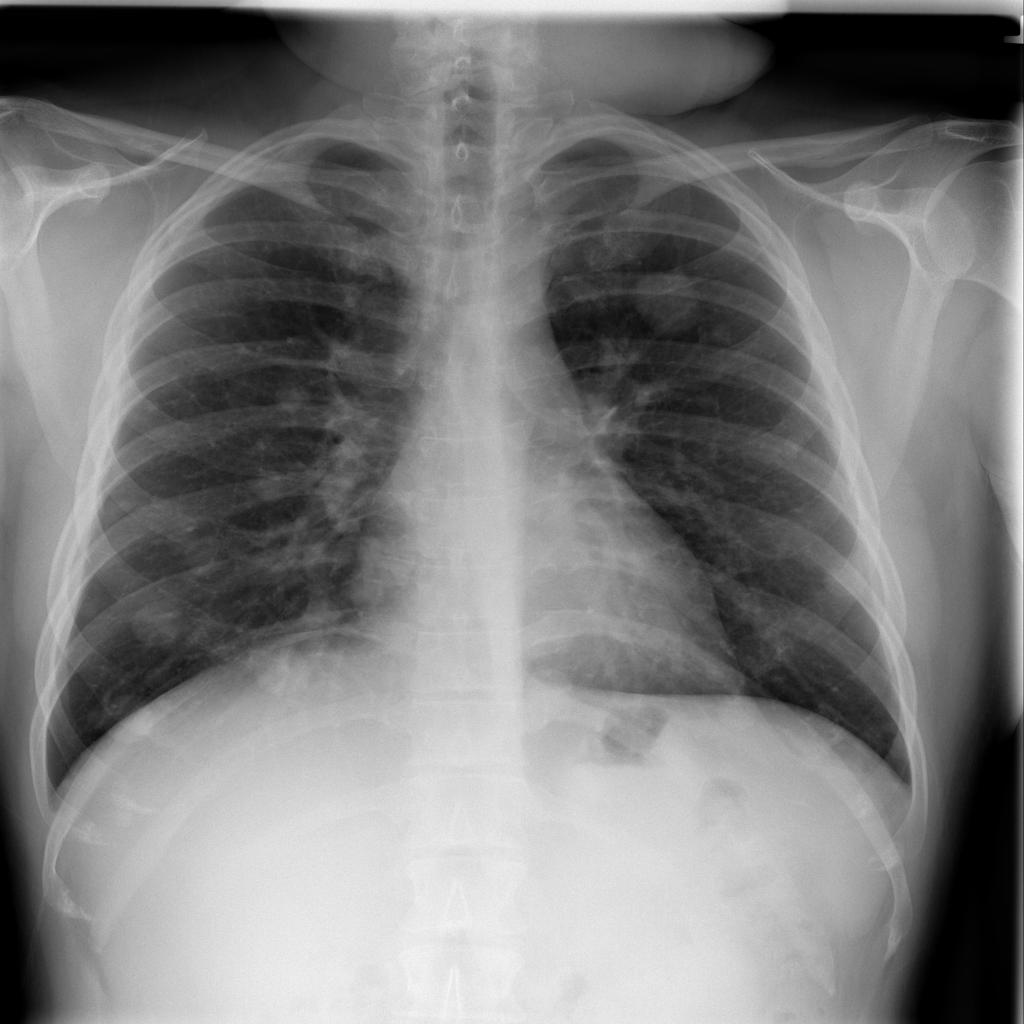nodule: (614, 246, 727, 348), (84, 683, 178, 750), (238, 636, 324, 707), (117, 591, 197, 660), (810, 537, 878, 618), (234, 450, 309, 516), (263, 373, 318, 422)
